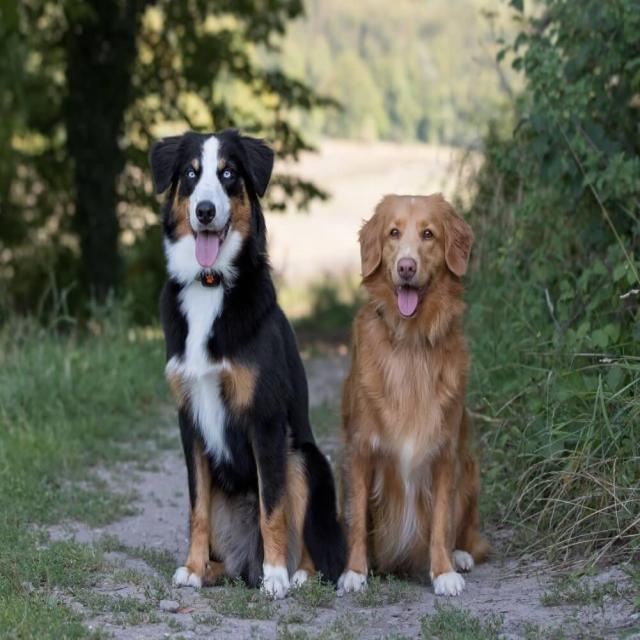Dog: (137, 101, 290, 308), (344, 184, 484, 347)
